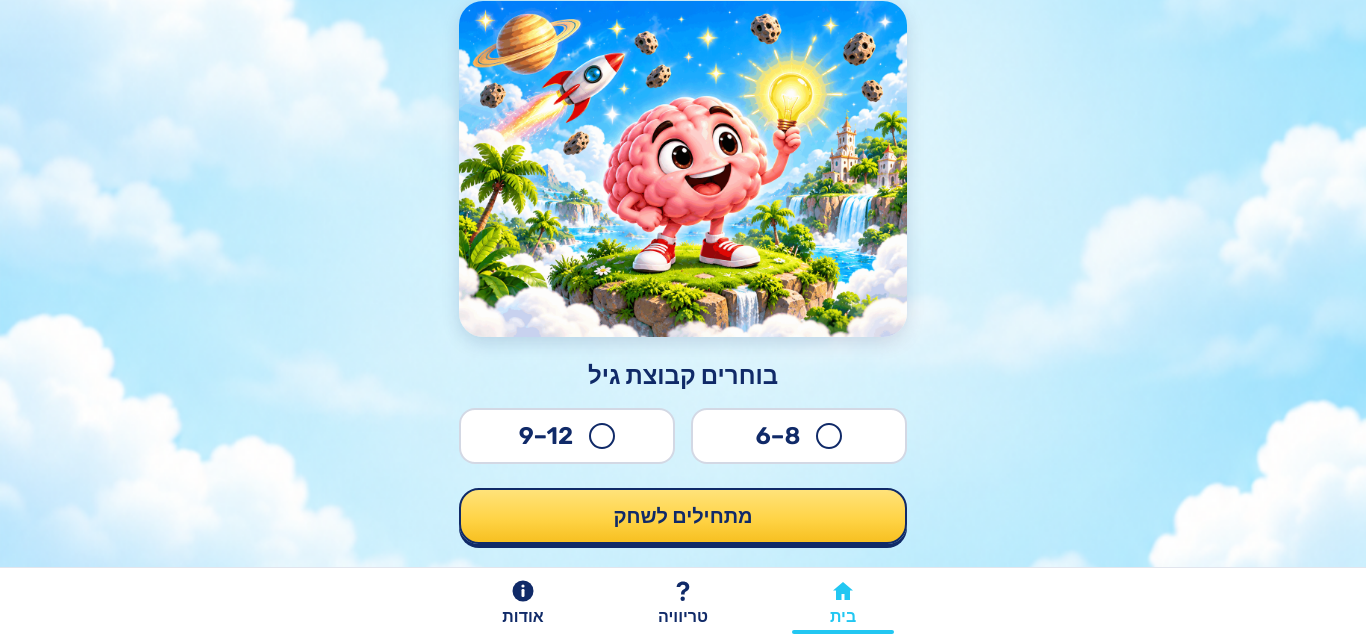
Scenario: answering › a correct answer shows success and the explanation
(page scrolled)
Click the radio button labelled "9–12".
click(602, 436)  # box x1=589 y1=423 x2=615 y2=449
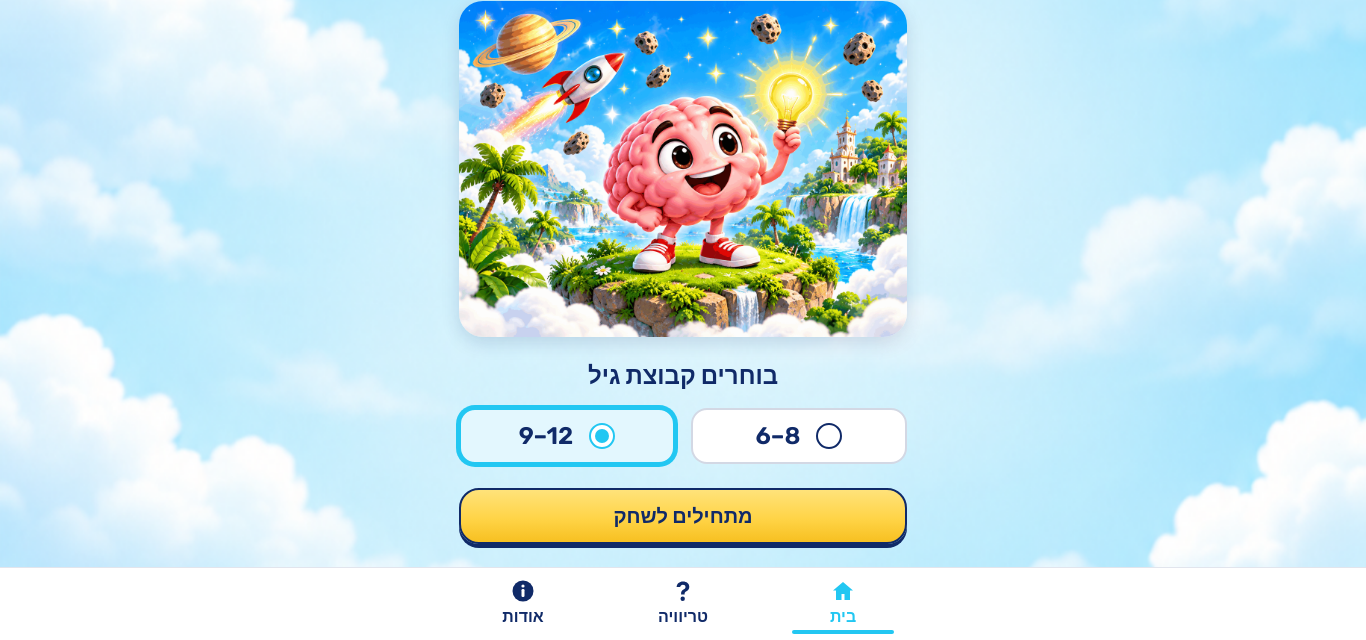
Click the button "מתחילים לשחק".
click(683, 516)  # box x1=459 y1=488 x2=907 y2=544
(page scrolled)
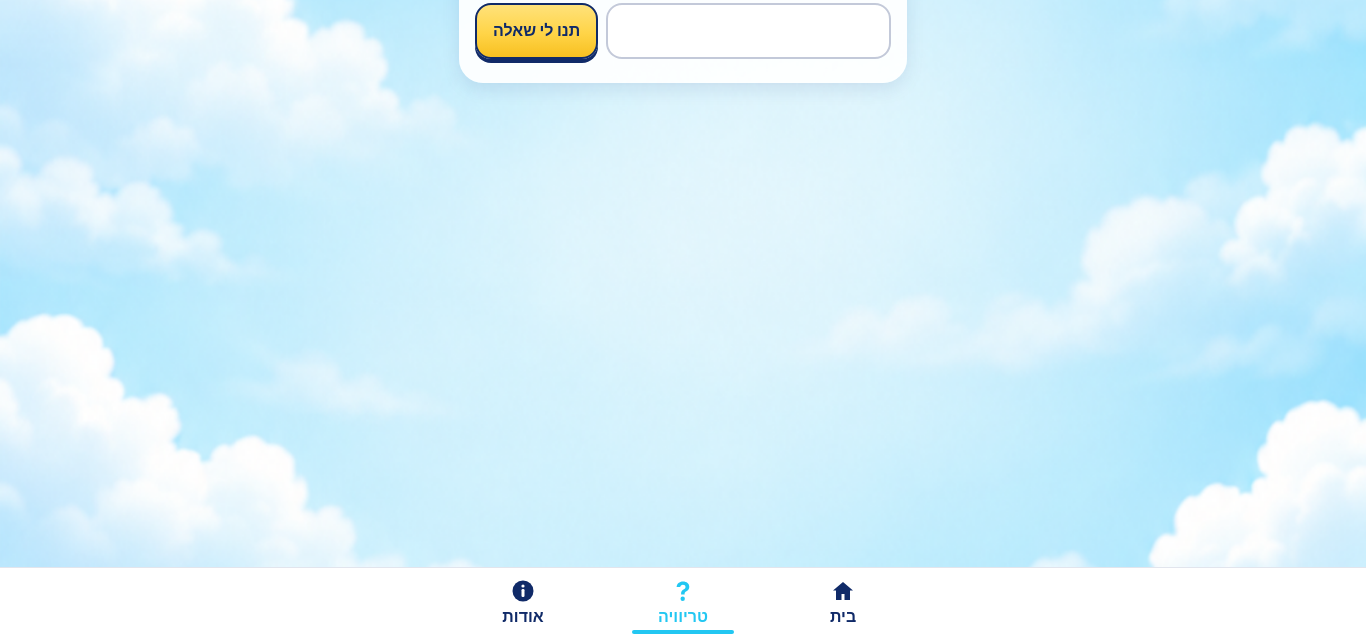
Type " חלל " into the field labelled "על איזה נושא נשחק?".
click(749, 31); type(" חלל ")  # box x1=606 y1=3 x2=891 y2=59
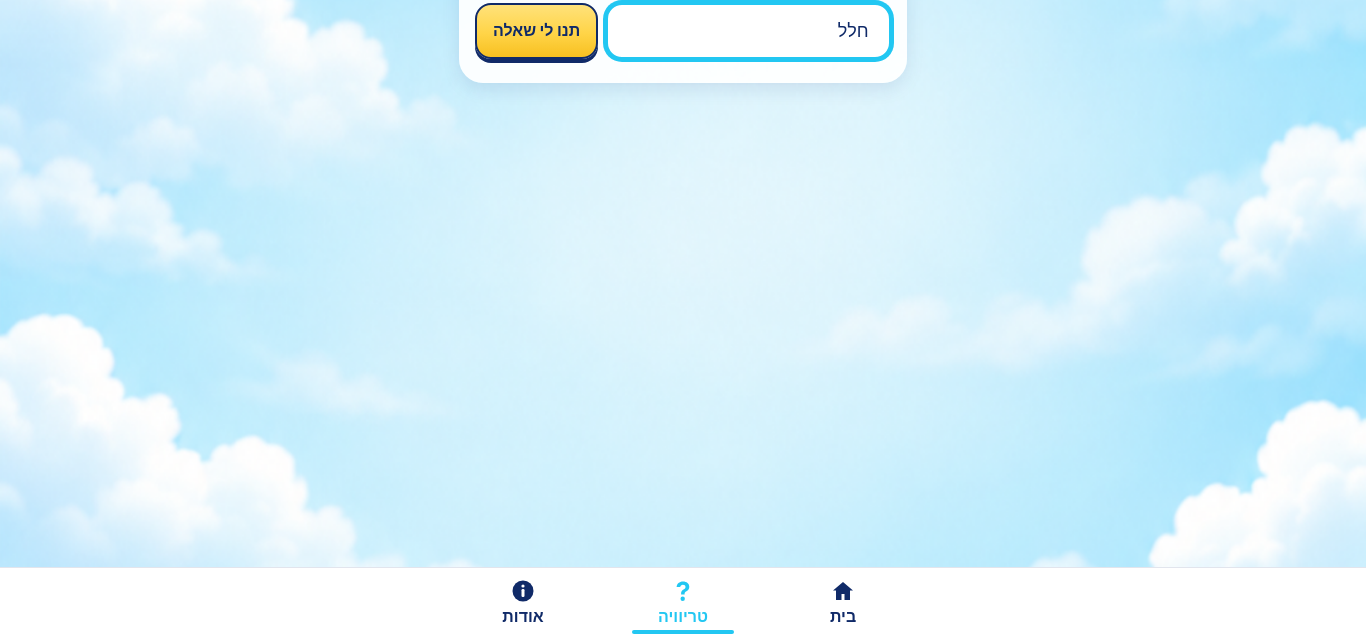
Click the button "תנו לי שאלה".
click(537, 31)  # box x1=475 y1=3 x2=598 y2=59
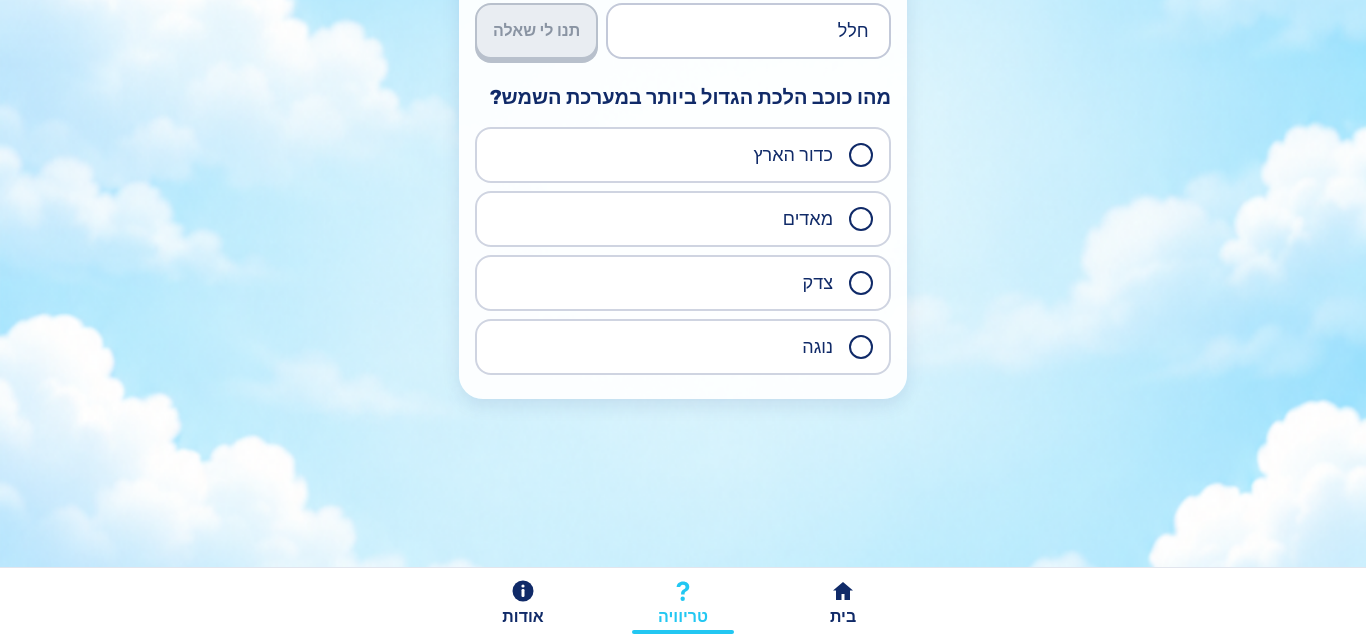
expect the heading "מהו כוכב הלכת הגדול ביותר במערכת השמש?" is shown: met, box x1=475 y1=83 x2=891 y2=111
Click the radio button labelled "צדק".
click(861, 283)  # box x1=849 y1=271 x2=873 y2=295
(page scrolled)
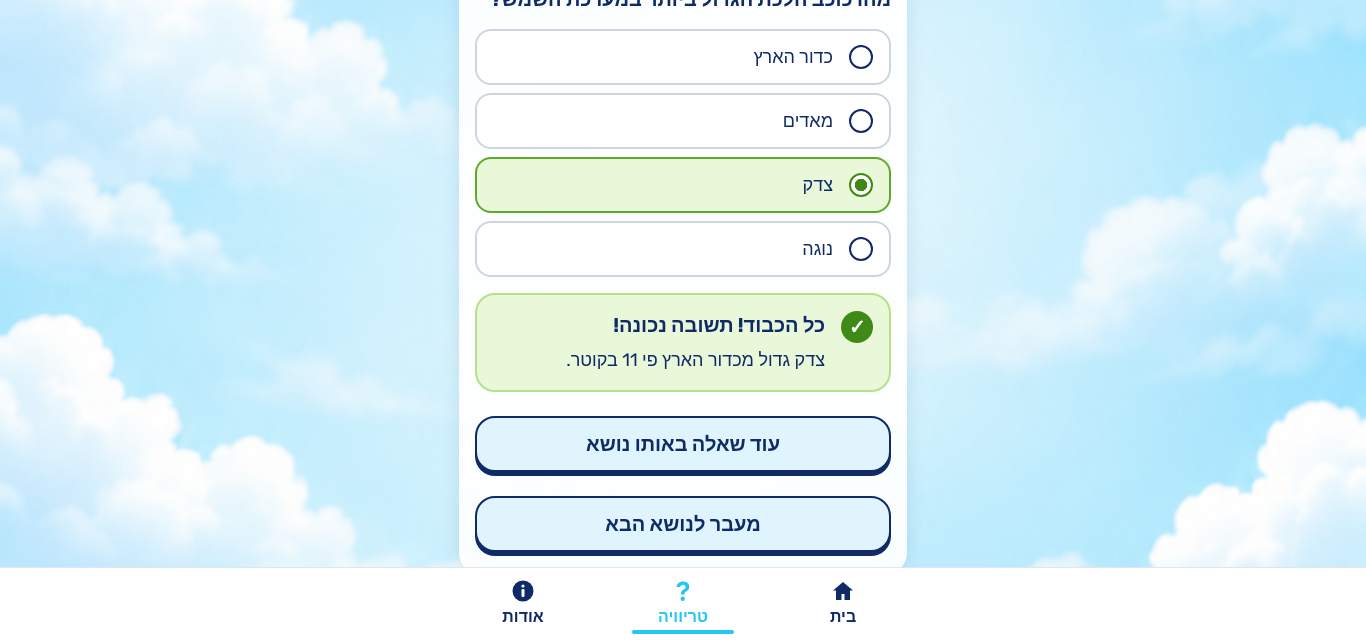
expect the message does not show "התשובה הנכונה היא": met, box x1=475 y1=293 x2=891 y2=392
expect the message shows "כל הכבוד! תשובה נכונה!": met, box x1=613 y1=313 x2=825 y2=337
expect the message shows "צדק גדול מכדור הארץ פי 11 בקוטר.": met, box x1=566 y1=349 x2=825 y2=371
